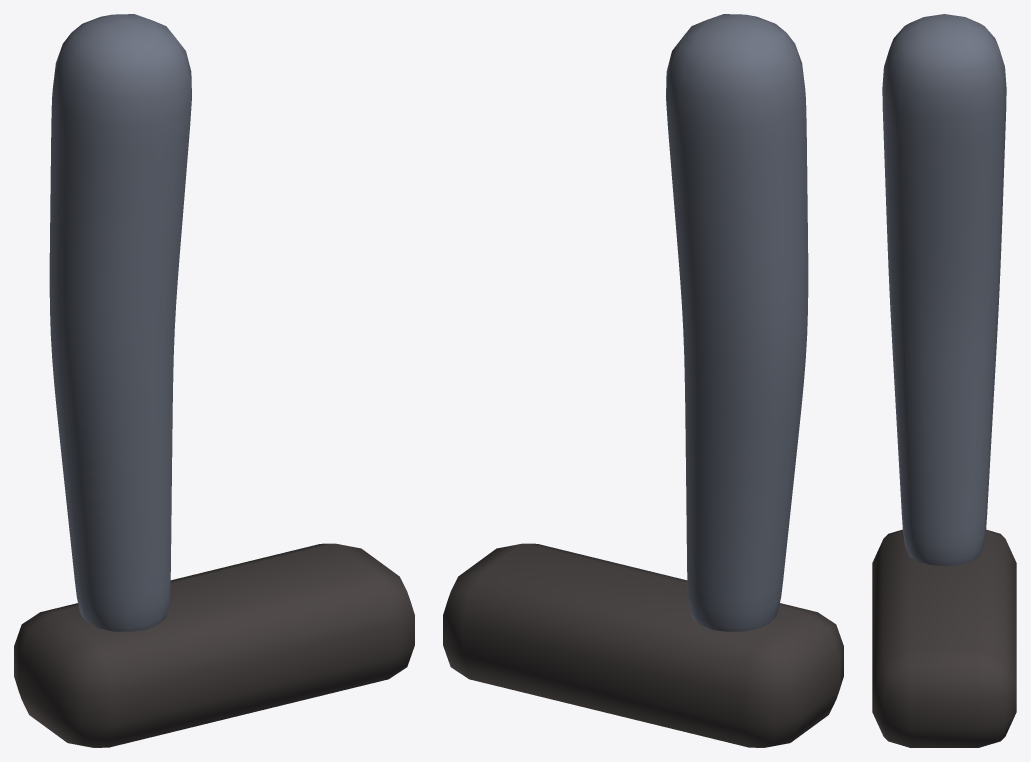
The model's file is SM_Faceling_Shin.fbx.
The picture shows the model from 3 angles, left to right: view 1: azimuth 30°, elevation 25°; view 2: azimuth 150°, elevation 25°; view 3: azimuth 270°, elevation 25°; orthographic projection. The views are drawn at different scales.
Parts seen in each view (by area): view 1: SM_Faceling_Shin; view 2: SM_Faceling_Shin; view 3: SM_Faceling_Shin.
Boxes of the visible parts, x1,y1,x2,y2 form: SM_Faceling_Shin: [14, 14, 414, 747]; SM_Faceling_Shin: [443, 14, 843, 747]; SM_Faceling_Shin: [872, 14, 1016, 747].
Bounding box in the file's own units: 24 × 45.4 × 9.5.
